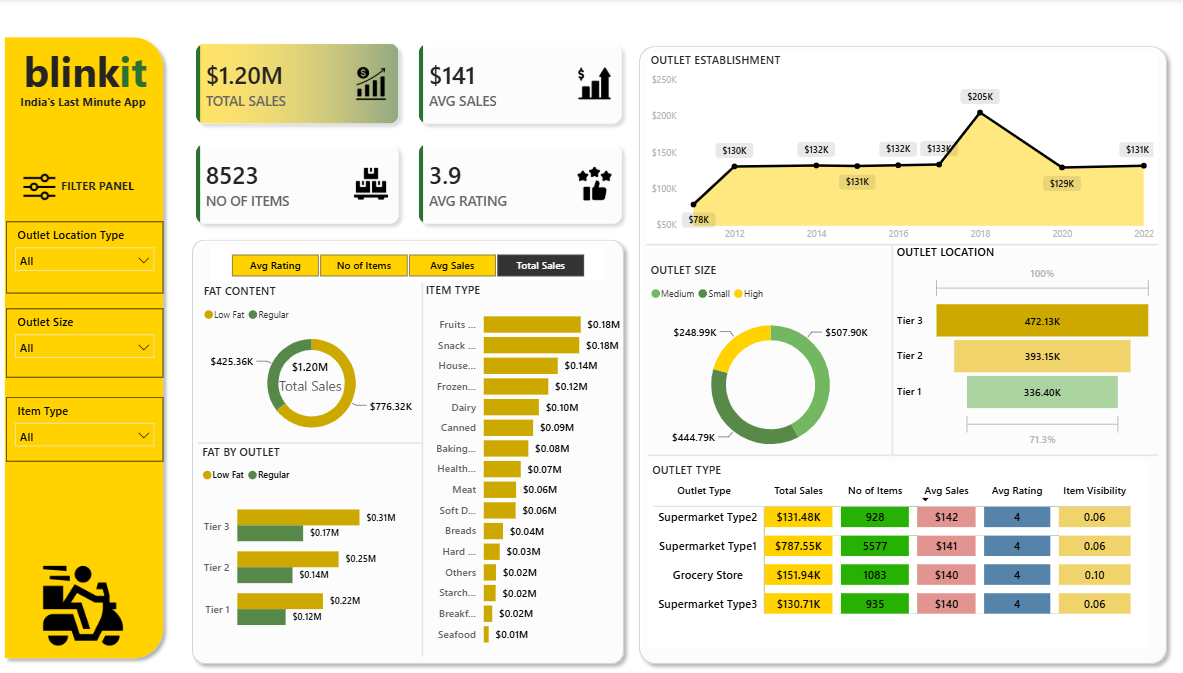

The dashboard page shown, as its layout file describes it:
{"tool":"powerbi","page":{"name":"Page 1","canvas":[1400,800],"ordinal":0},"visuals":[{"type":"shape","box":[0,36.7,205,750],"z":0},{"type":"textbox","box":[26.5,47.7,167.9,79.5],"z":1000},{"type":"textbox","box":[8.8,107.8,185.6,37.1],"z":2000},{"type":"cardVisual","fields":{"Data":["BlinkIT Grocery Data.Total Sales","BlinkIT Grocery Data.Avg Sales","BlinkIT Grocery Data.No of Items","BlinkIT Grocery Data.Avg Rating"]},"box":[205,24.7,560.2,270.4],"z":3000},{"type":"shape","box":[220.9,275.7,526.7,517.8],"z":4000},{"type":"donutChart","title":"FAT CONTENT","fields":{"Category":["BlinkIT Grocery Data.Item Fat Content"],"Y":["BlinkIT Grocery Data.Total Sales"]},"box":[238.6,335.8,263.3,190.9],"z":5000},{"type":"slicer","fields":{"Values":["Metrics.Metrics"]},"box":[251,295.1,464.8,38.9],"z":6000},{"type":"cardVisual","fields":{"Data":["BlinkIT Grocery Data.Total Sales"]},"box":[300.4,411.8,137.9,68.9],"z":7000},{"type":"clusteredBarChart","title":"FAT BY OUTLET","fields":{"Category":["BlinkIT Grocery Data.Outlet Location Type"],"Series":["BlinkIT Grocery Data.Item Fat Content"],"Y":["BlinkIT Grocery Data.Total Sales"]},"box":[236.8,524.9,238.6,240.4],"z":8000},{"type":"shape","box":[236.7,514.4,263.3,20],"z":9000},{"type":"shape","box":[488.9,335.6,23.3,440],"z":10000},{"type":"barChart","title":"ITEM TYPE","fields":{"Category":["BlinkIT Grocery Data.Item Type"],"Y":["BlinkIT Grocery Data.Total Sales"]},"box":[500,334.4,238.9,440],"z":11000},{"type":"shape","box":[747.6,47.7,639.8,745.8],"z":12000},{"type":"lineChart","title":"OUTLET ESTABLISHMENT","fields":{"Category":["BlinkIT Grocery Data.Outlet Establishment Year"],"Y":["BlinkIT Grocery Data.Total Sales"]},"box":[765.3,63.6,602.7,231.5],"z":13000},{"type":"shape","box":[765,286.2,602.5,8.8],"z":14000},{"type":"donutChart","title":"OUTLET SIZE","fields":{"Category":["BlinkIT Grocery Data.Outlet Size"],"Y":["BlinkIT Grocery Data.Total Sales"]},"box":[765.3,311.1,291.6,243.9],"z":15000},{"type":"shape","box":[1042.9,290,24.3,250],"z":16000},{"type":"funnel","title":"OUTLET LOCATION","fields":{"Category":["BlinkIT Grocery Data.Outlet Location Type"],"Y":["Sum(BlinkIT Grocery Data.Sales)"]},"box":[1055.1,289.8,311.1,245.7],"z":17000},{"type":"shape","box":[767.1,534.3,601.4,10],"z":18000},{"type":"pivotTable","title":"OUTLET TYPE","fields":{"Rows":["BlinkIT Grocery Data.Outlet Type"],"Values":["BlinkIT Grocery Data.Total Sales","BlinkIT Grocery Data.No of Items","BlinkIT Grocery Data.Avg Sales","BlinkIT Grocery Data.Avg Rating","Avg(BlinkIT Grocery Data.Item Visibility)"]},"box":[767.1,545.7,590,220],"z":19000},{"type":"slicer","fields":{"Values":["BlinkIT Grocery Data.Outlet Location Type"]},"box":[10.6,263.3,185.6,84.8],"z":20000},{"type":"slicer","fields":{"Values":["BlinkIT Grocery Data.Outlet Size"]},"box":[10.6,365.8,185.6,81.3],"z":21000},{"type":"slicer","fields":{"Values":["BlinkIT Grocery Data.Item Type"]},"box":[10.6,470.1,185.6,76],"z":22000},{"type":"textbox","box":[70.8,206.7,99.2,35],"z":22001},{"type":"image","box":[27.5,203.3,43.3,38.3],"z":22002},{"type":"image","box":[36,657,132,117],"z":22003}]}

Visuals, with their boxes in screenshot pixels (x1, y1, x2, y2), scaled from the page's 1400x800 canvas onto the 1183x673 screenshot:
shape: region(0, 31, 173, 662)
textbox: region(22, 40, 164, 107)
textbox: region(7, 91, 164, 122)
cardVisual - BlinkIT Grocery Data.Total Sales x BlinkIT Grocery Data.Avg Sales: region(173, 21, 647, 248)
shape: region(187, 232, 632, 668)
"FAT CONTENT" donutChart: region(202, 282, 424, 443)
slicer - Metrics.Metrics: region(212, 248, 605, 281)
cardVisual - BlinkIT Grocery Data.Total Sales: region(254, 346, 370, 404)
"FAT BY OUTLET" clusteredBarChart: region(200, 442, 402, 644)
shape: region(200, 433, 422, 450)
shape: region(413, 282, 433, 652)
"ITEM TYPE" barChart: region(422, 281, 624, 651)
shape: region(632, 40, 1172, 668)
"OUTLET ESTABLISHMENT" lineChart: region(647, 54, 1156, 248)
shape: region(646, 241, 1156, 248)
"OUTLET SIZE" donutChart: region(647, 262, 893, 467)
shape: region(881, 244, 902, 454)
"OUTLET LOCATION" funnel: region(892, 244, 1154, 450)
shape: region(648, 449, 1156, 458)
"OUTLET TYPE" pivotTable: region(648, 459, 1147, 644)
slicer - BlinkIT Grocery Data.Outlet Location Type: region(9, 222, 166, 293)
slicer - BlinkIT Grocery Data.Outlet Size: region(9, 308, 166, 376)
slicer - BlinkIT Grocery Data.Item Type: region(9, 395, 166, 459)
textbox: region(60, 174, 144, 203)
image: region(23, 171, 60, 203)
image: region(30, 553, 142, 651)
